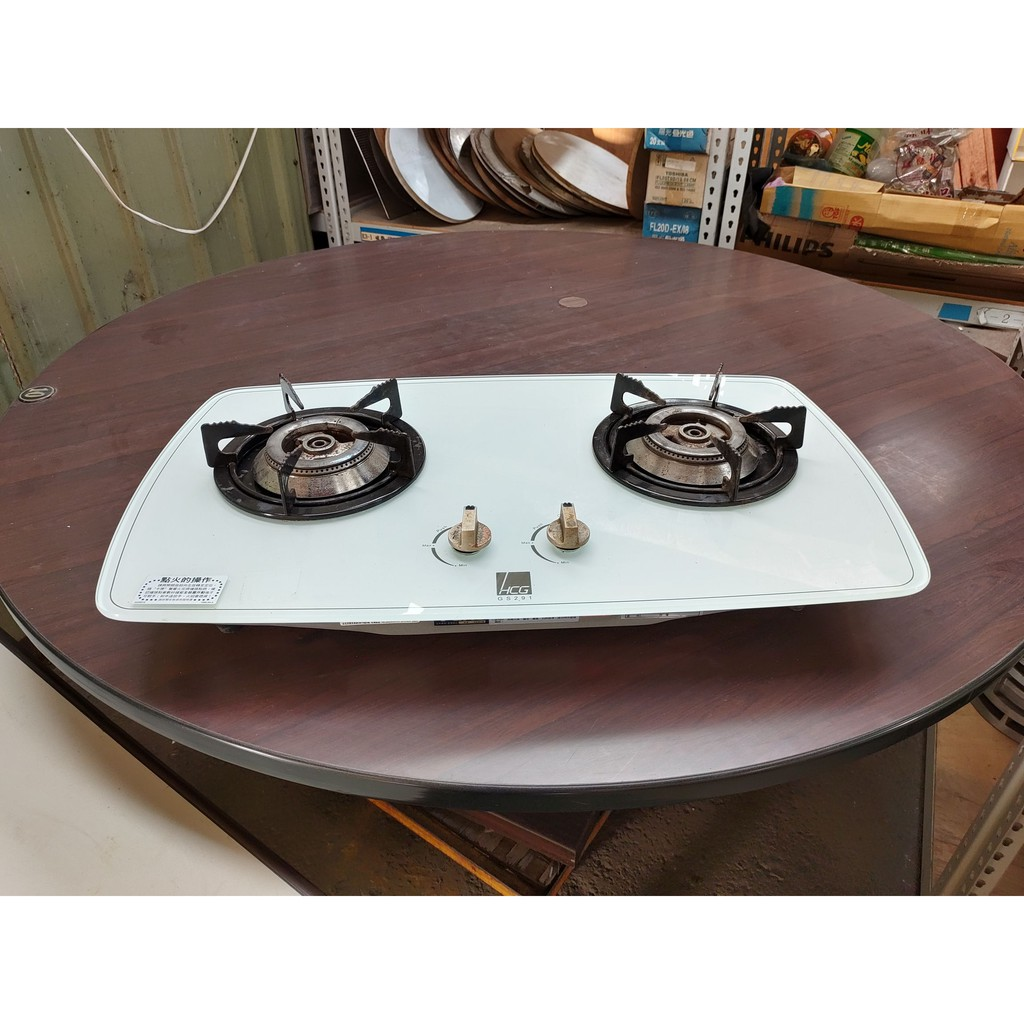gasoven: (95, 359, 936, 650)
